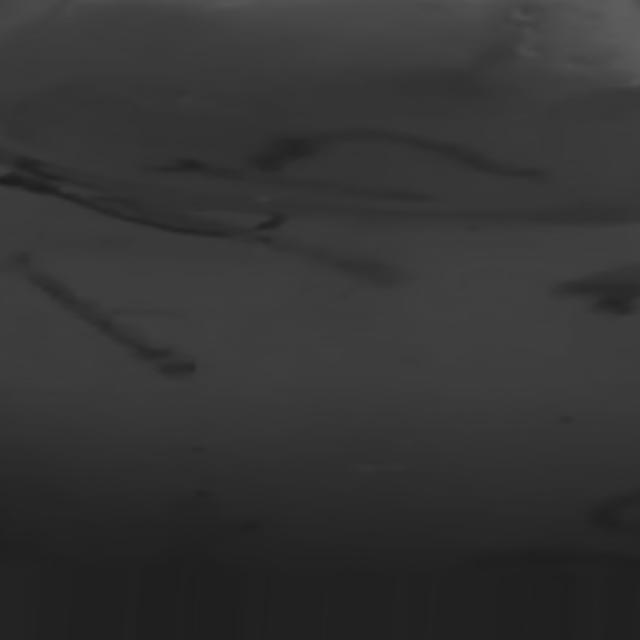larvas: (0, 161, 292, 255), (272, 113, 557, 191), (26, 268, 184, 378), (166, 153, 428, 214), (299, 237, 409, 297), (557, 270, 640, 320)
